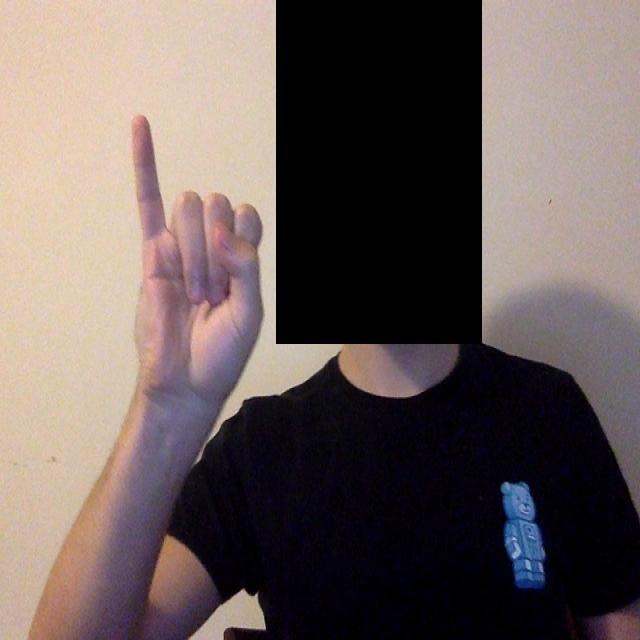I: (99, 95, 289, 426)
